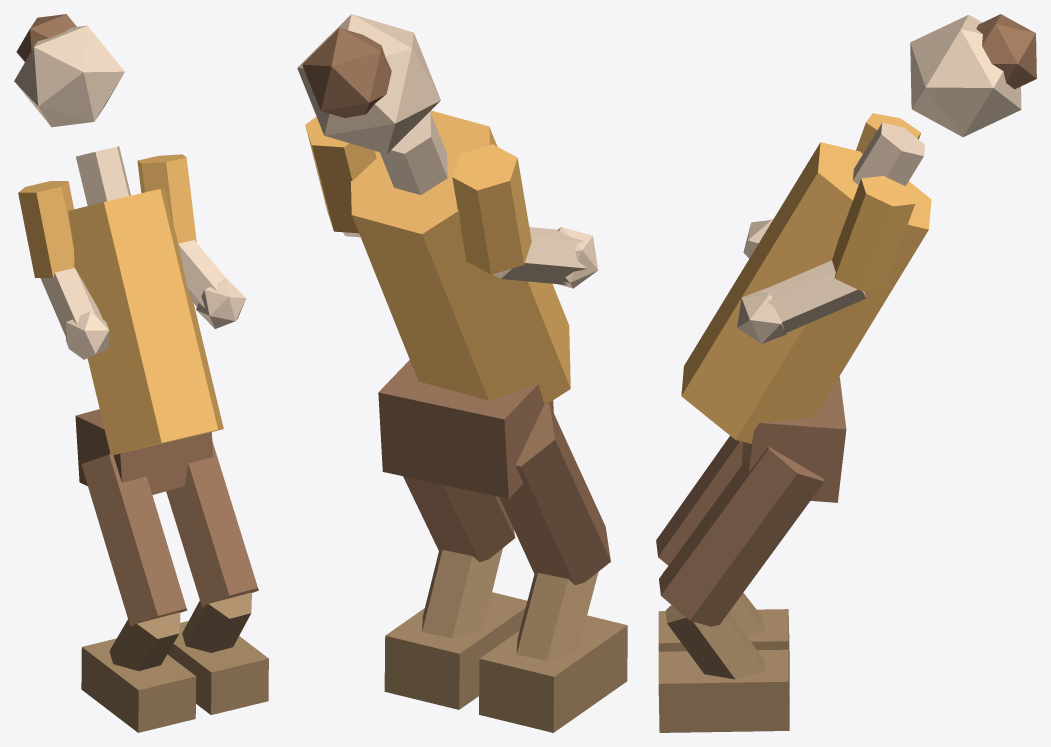
Rendered from pose_hit_light_04.glb.
3 renders of one model, left to right at view 1: azimuth 30°, elevation 25°; view 2: azimuth 150°, elevation 25°; view 3: azimuth 270°, elevation 25°, orthographic. The views are drawn at different scales.
Visible parts, largest first — view 1: pose; view 2: pose; view 3: pose.
Boxes of the visible parts, <box> form: pose: <box>14,14,268,732</box>; pose: <box>297,14,627,732</box>; pose: <box>656,14,1036,732</box>.
Size of the model in its own units: 0.4169 by 1.38 by 0.7025.
